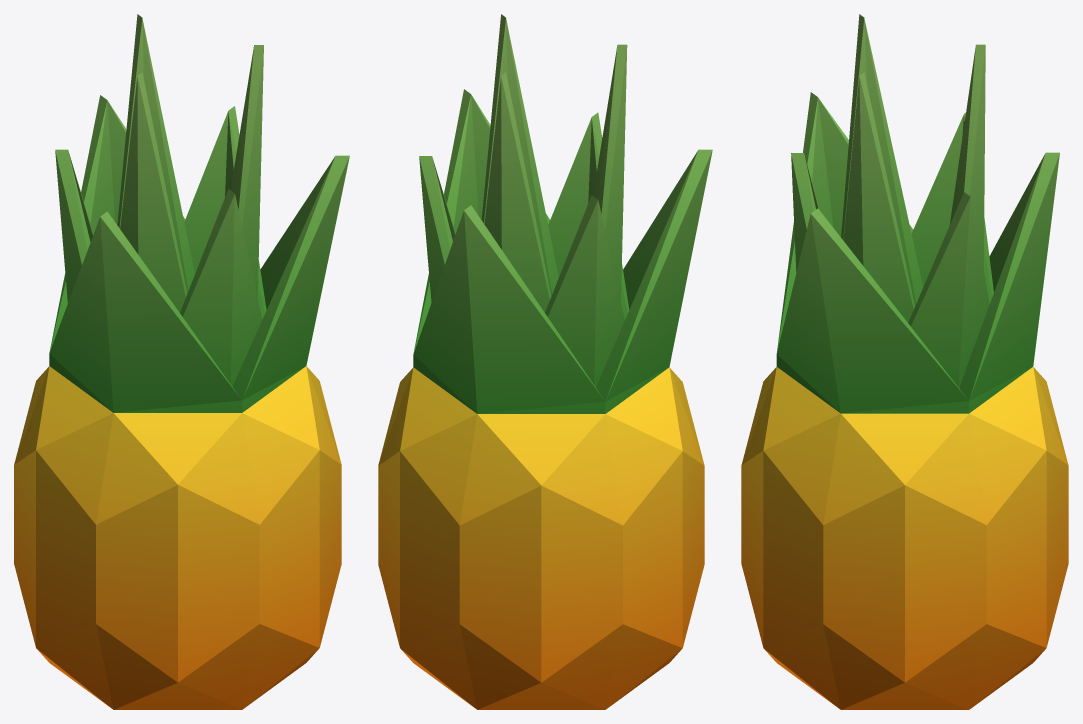
The model's file is pineapple.fbx.
3 renders of one model, left to right at view 1: azimuth 30°, elevation 25°; view 2: azimuth 150°, elevation 25°; view 3: azimuth 270°, elevation 25°, orthographic.
Parts seen in each view (by area): view 1: pineapple; view 2: pineapple; view 3: pineapple.
Part boxes in pixels (box(x1,y1,x2,y2)): pineapple: box(14, 14, 349, 709); pineapple: box(378, 14, 712, 709); pineapple: box(741, 14, 1068, 709).
Bounding box in the file's own units: 162 × 338 × 162.
